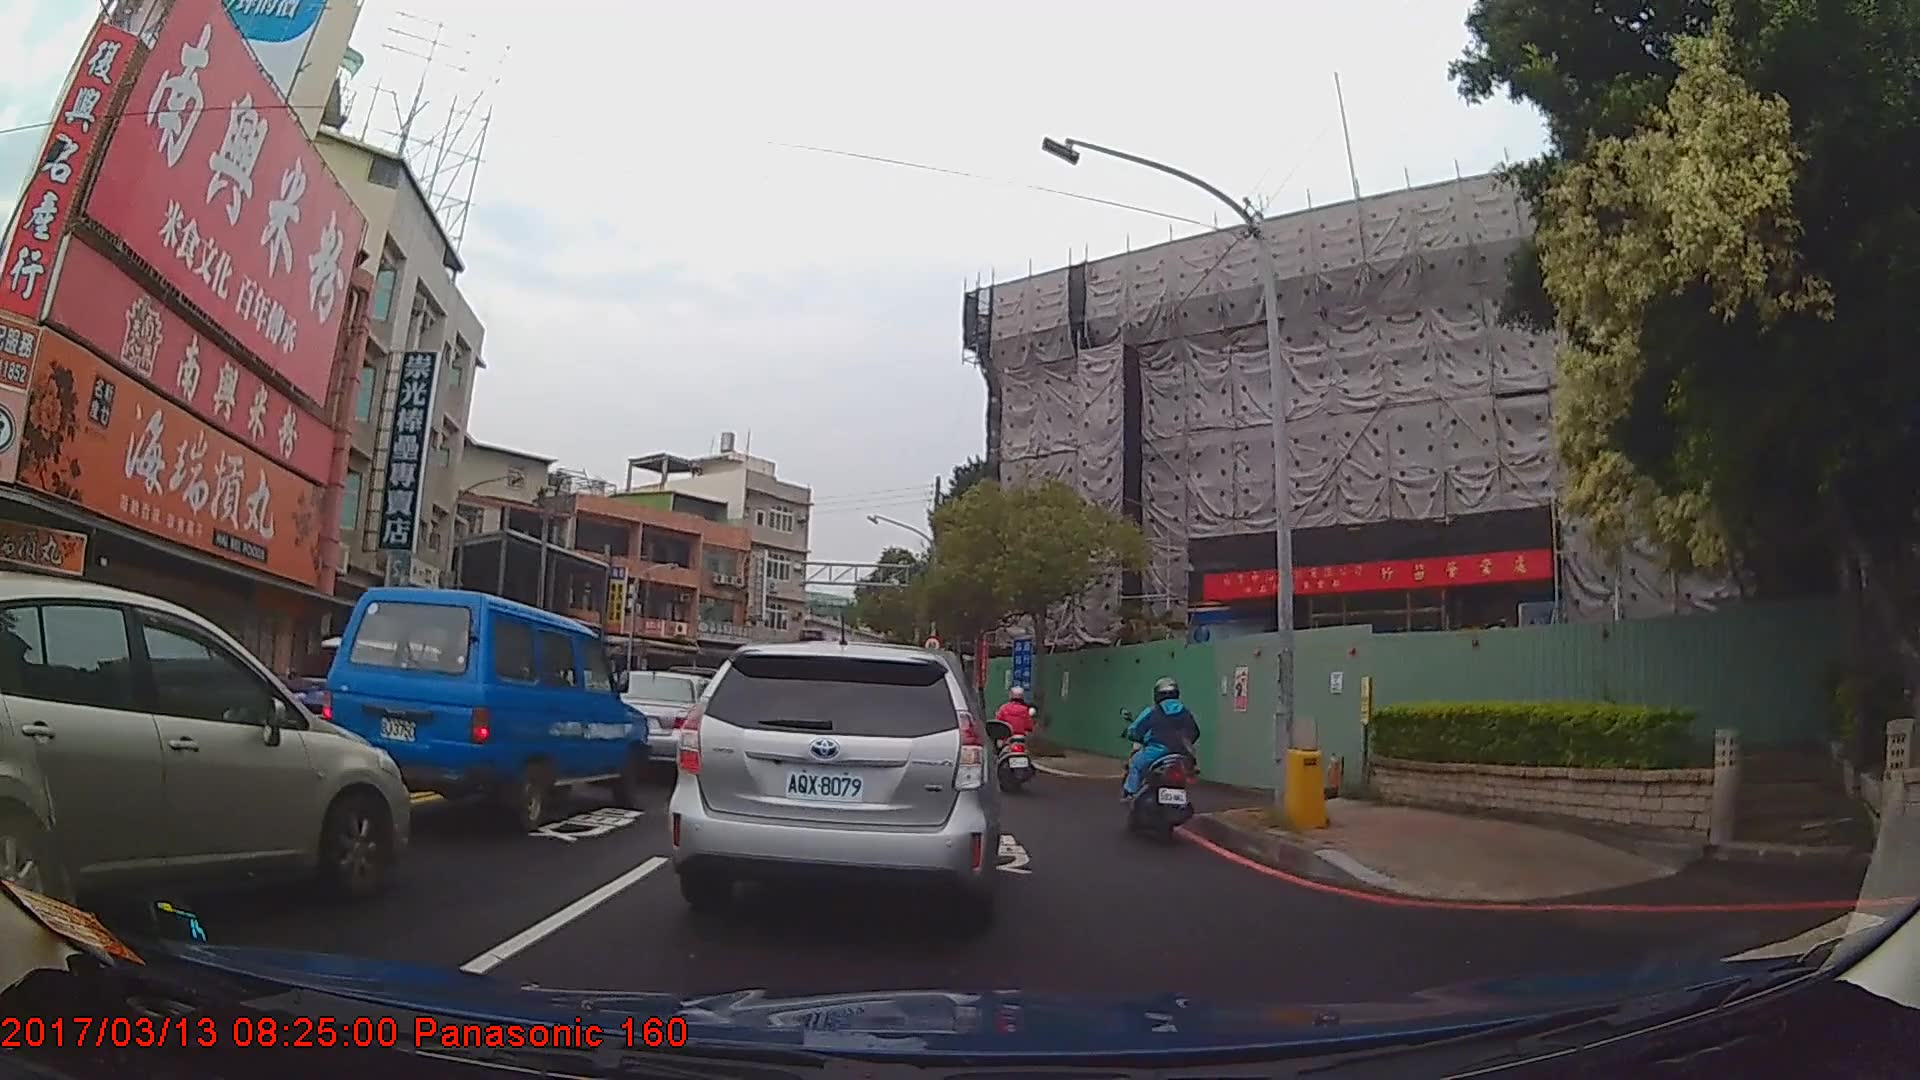rider: (1123, 678, 1202, 847), (991, 686, 1043, 796)
vehicle: (0, 571, 410, 937), (665, 638, 1002, 936), (317, 584, 649, 829), (593, 665, 722, 788)
